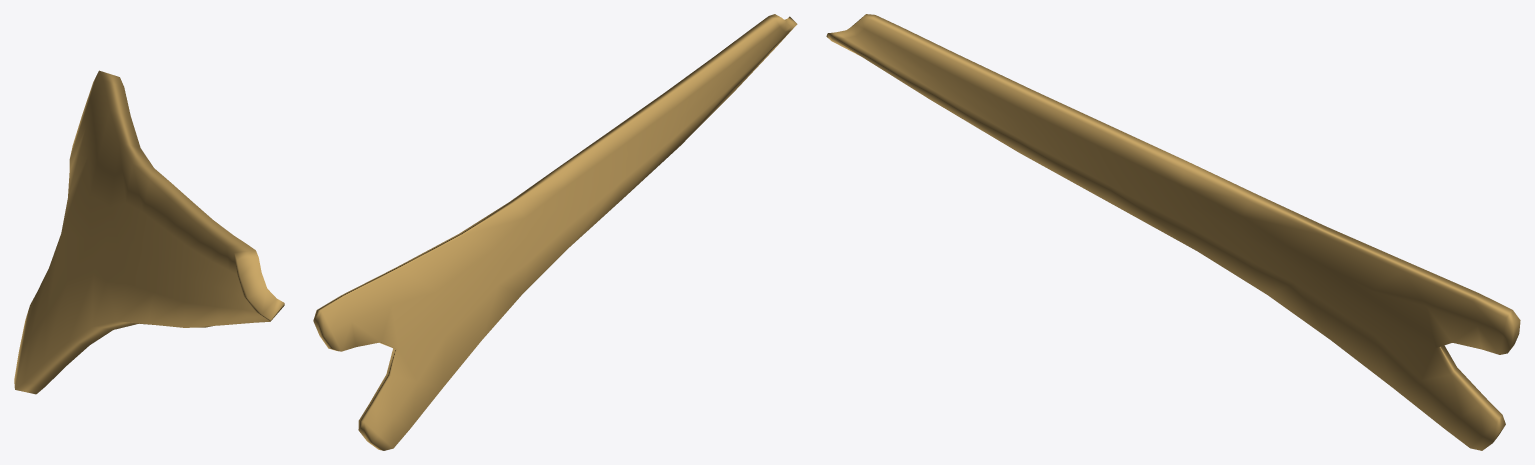
3 views of the same model, side by side, from view 1: azimuth 30°, elevation 25°; view 2: azimuth 150°, elevation 25°; view 3: azimuth 270°, elevation 25° (orthographic). The views are drawn at different scales.
Parts seen in each view (by area): view 1: 左侧蝶下颌韧带; view 2: 左侧蝶下颌韧带; view 3: 左侧蝶下颌韧带.
Boxes of the visible parts, left/top/right/bottom form: 左侧蝶下颌韧带: left=14, top=70, right=284, bottom=394; 左侧蝶下颌韧带: left=313, top=14, right=797, bottom=450; 左侧蝶下颌韧带: left=826, top=14, right=1520, bottom=450.
Size of the model in its own units: 0.0158 by 0.021 by 0.038.
